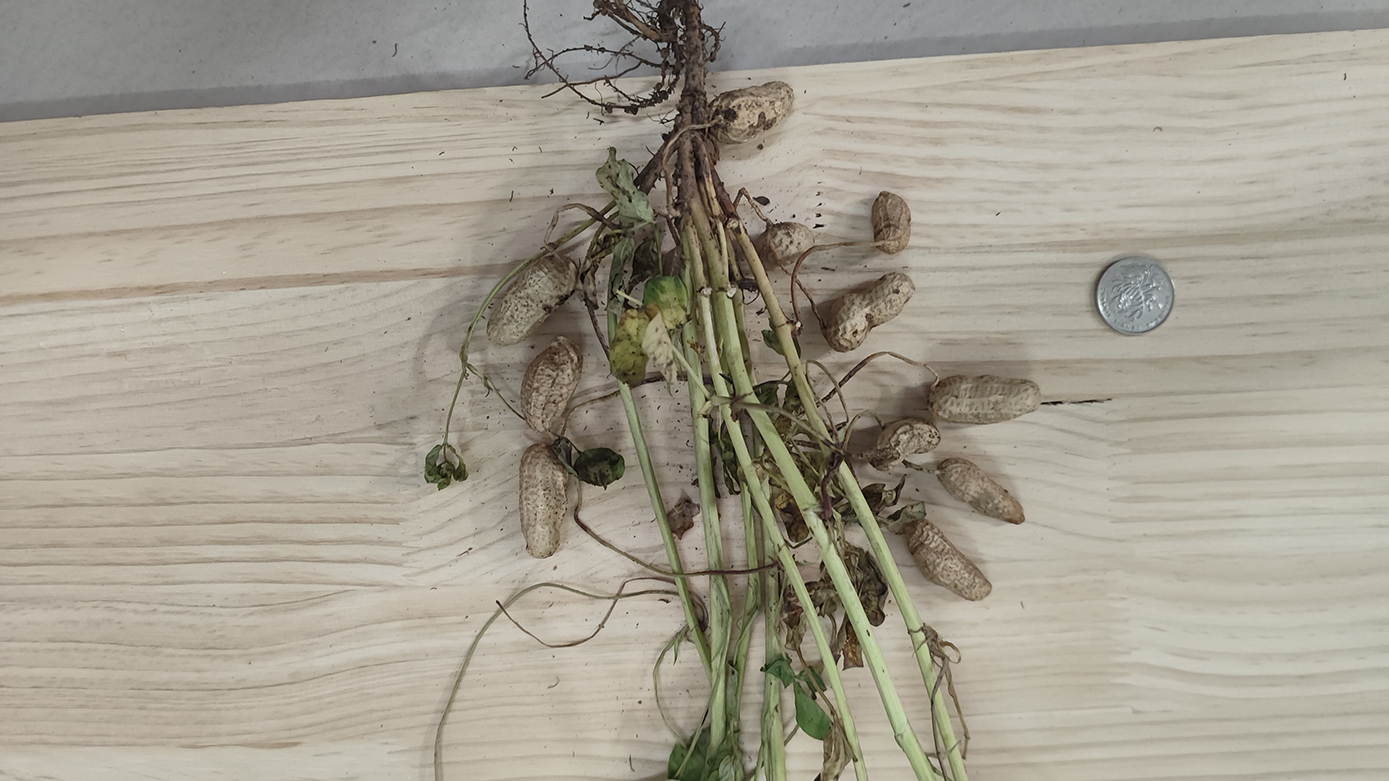h: (483, 253, 579, 345), (903, 515, 992, 600), (824, 271, 915, 352), (925, 374, 1040, 428), (520, 333, 583, 430), (938, 455, 1024, 525), (517, 444, 567, 558), (708, 80, 794, 146), (871, 419, 940, 466), (870, 190, 912, 254), (763, 221, 816, 263)
